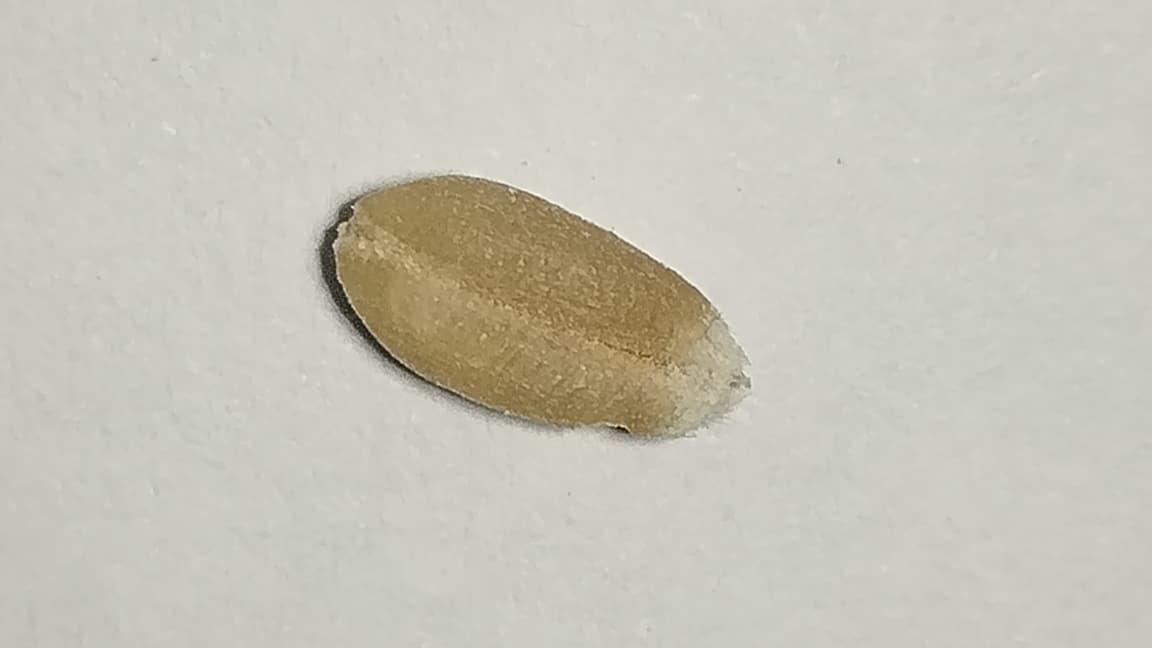damage: (333, 173, 749, 434)
insectdamage: (555, 402, 655, 442)
